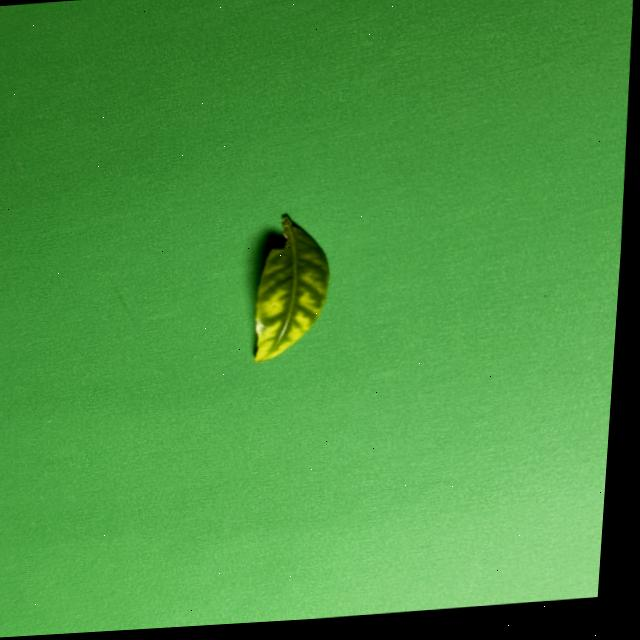greening: (254, 215, 329, 362)
